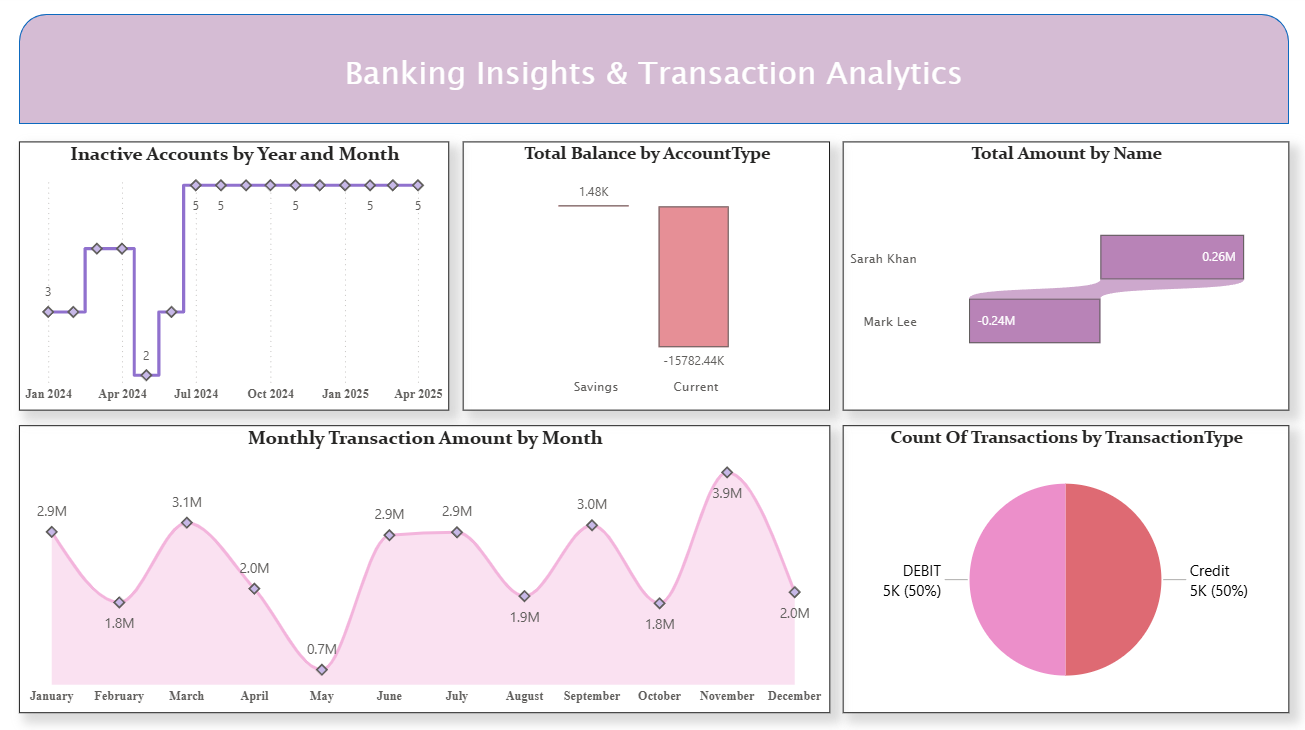

Layout of this report page (visuals, bound fields, positions):
{"tool":"powerbi","page":{"name":"Page 1","canvas":[1280,720],"ordinal":0},"visuals":[{"type":"pieChart","fields":{"Y":["Measures Table_1.Count Of Transactions"],"Category":["CombinedBankingDataset.TransactionType"]},"box":[825.4,421.9,436.6,281.3],"z":0},{"type":"areaChart","fields":{"Y":["Measures Table_1.Monthly Transaction Amount"],"Category":["CombinedBankingDataset.TransactionDate.Variation.Date Hierarchy.Month"]},"box":[19.6,421.9,793.6,281.3],"z":1000},{"type":"barChart","title":"Total Amount by Name","fields":{"Category":["CombinedBankingDataset.Name"],"Y":["CombinedBankingDataset.Amount"]},"box":[825.4,144.3,436.6,262.9],"z":2000},{"type":"clusteredColumnChart","fields":{"Y":["Measures Table_1.Total Balance"],"Category":["CombinedBankingDataset.AccountType"]},"box":[453.7,144.3,359.5,262.9],"z":3000},{"type":"lineChart","fields":{"Y":["Measures Table_1.Inactive Accounts"],"Category":["CombinedBankingDataset.TransactionDate.Variation.Date Hierarchy.Year","CombinedBankingDataset.TransactionDate.Variation.Date Hierarchy.Month"]},"box":[19.6,144.3,420.7,262.9],"z":4000},{"type":"shape","box":[19.6,19.6,1242.4,107.6],"z":5000}]}

Visuals, with their boxes in screenshot pixels (x1, y1, x2, y2), scaled from the page's 1280x720 canvas onto the 1305x730 screenshot:
pieChart - Measures Table_1.Count Of Transactions x CombinedBankingDataset.TransactionType: region(842, 428, 1287, 713)
areaChart - Measures Table_1.Monthly Transaction Amount x CombinedBankingDataset.TransactionDate.Variation.Date Hierarchy.Month: region(20, 428, 829, 713)
"Total Amount by Name" barChart: region(842, 146, 1287, 413)
clusteredColumnChart - Measures Table_1.Total Balance x CombinedBankingDataset.AccountType: region(463, 146, 829, 413)
lineChart - Measures Table_1.Inactive Accounts x CombinedBankingDataset.TransactionDate.Variation.Date Hierarchy.Year: region(20, 146, 449, 413)
shape: region(20, 20, 1287, 129)
